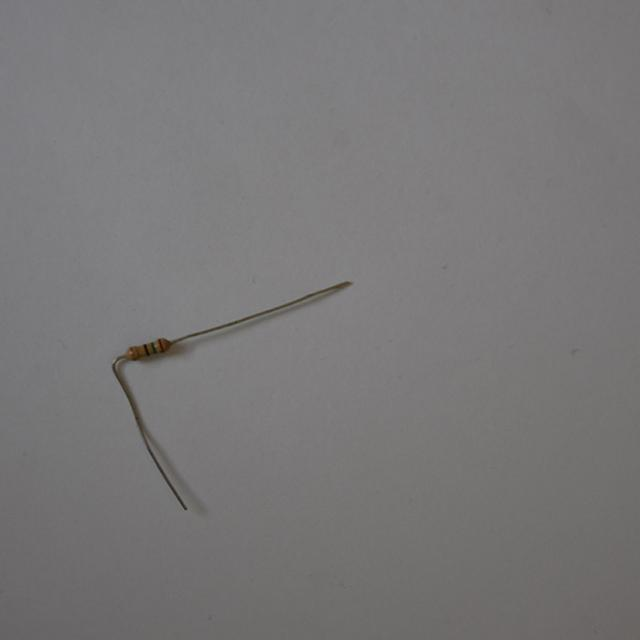black: (142, 344, 150, 355)
brown: (158, 339, 164, 351)
gold: (130, 347, 138, 359)
green: (150, 341, 156, 352)
resistor: (119, 330, 175, 370)
